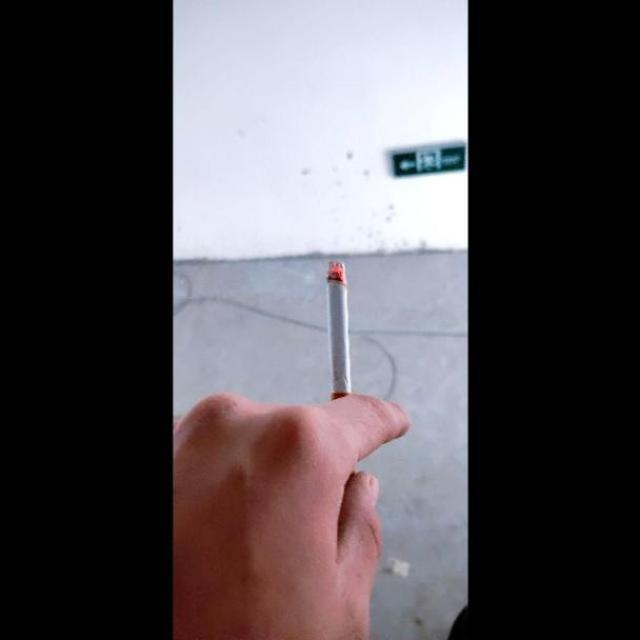rokok: (323, 260, 359, 402)
